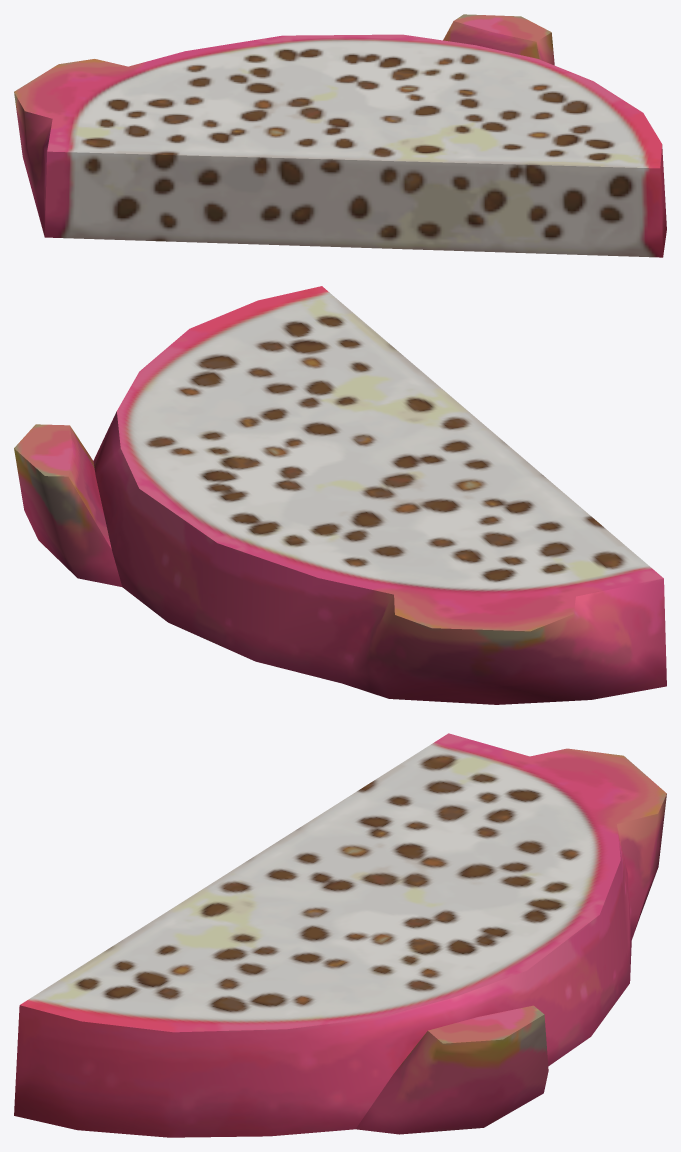
File: SM_PitayaSliceB.fbx
3 renders of one model, top to bottom at view 1: azimuth 30°, elevation 25°; view 2: azimuth 150°, elevation 25°; view 3: azimuth 270°, elevation 25°, orthographic. The views are drawn at different scales.
Visible parts, largest first — view 1: SM_PitayaSliceB; view 2: SM_PitayaSliceB; view 3: SM_PitayaSliceB.
Boxes of the visible parts, x1,y1,x2,y2 form: SM_PitayaSliceB: (14, 14, 666, 257); SM_PitayaSliceB: (14, 286, 666, 704); SM_PitayaSliceB: (14, 733, 666, 1137).
Size of the model in its own units: 11.87 by 1.97 by 10.57.
